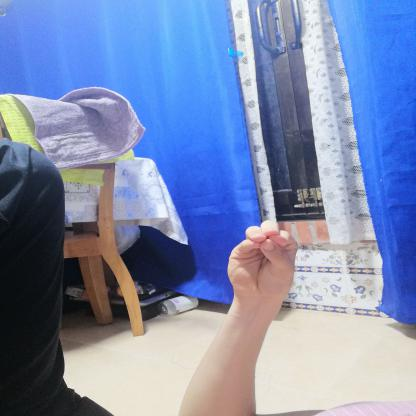HA: (217, 210, 308, 314)
